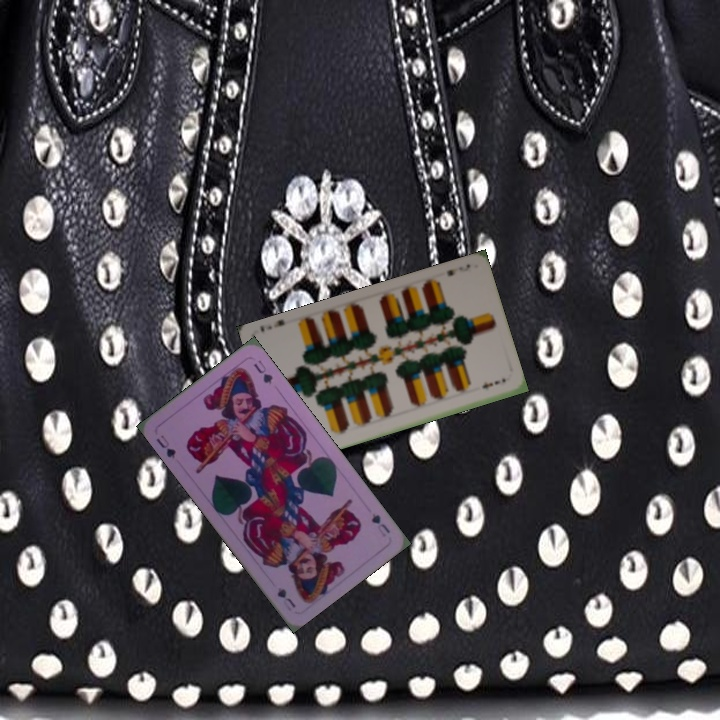E7: (443, 260, 473, 279)
GU: (152, 430, 178, 461), (367, 509, 393, 540)
